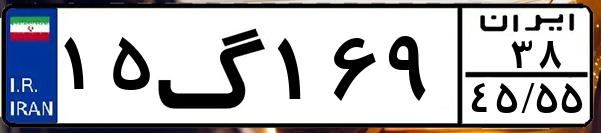1: (270, 28, 330, 110), (57, 26, 110, 100)
3: (508, 27, 537, 80)
4: (470, 70, 495, 125)
5: (110, 28, 156, 98), (560, 70, 590, 125), (495, 70, 520, 125), (535, 70, 560, 125)
6: (330, 28, 385, 110)
8: (537, 27, 568, 80)
9: (385, 28, 445, 110)
گ: (156, 12, 270, 120)
